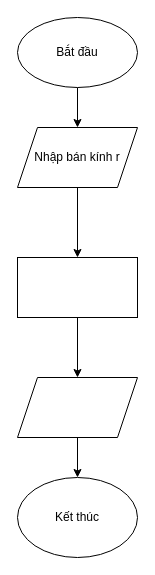
Some shapes in this 155 by 575 pixel diagram are drawn without their labels. The shapes that lost their labels are listed below. From the top down, each one's box as (x1, y1, x2, y2) in pixels, then its label:
(16, 256, 138, 318): π=3,14 S= π*r*r
(16, 376, 138, 438): In ra kết quả S
